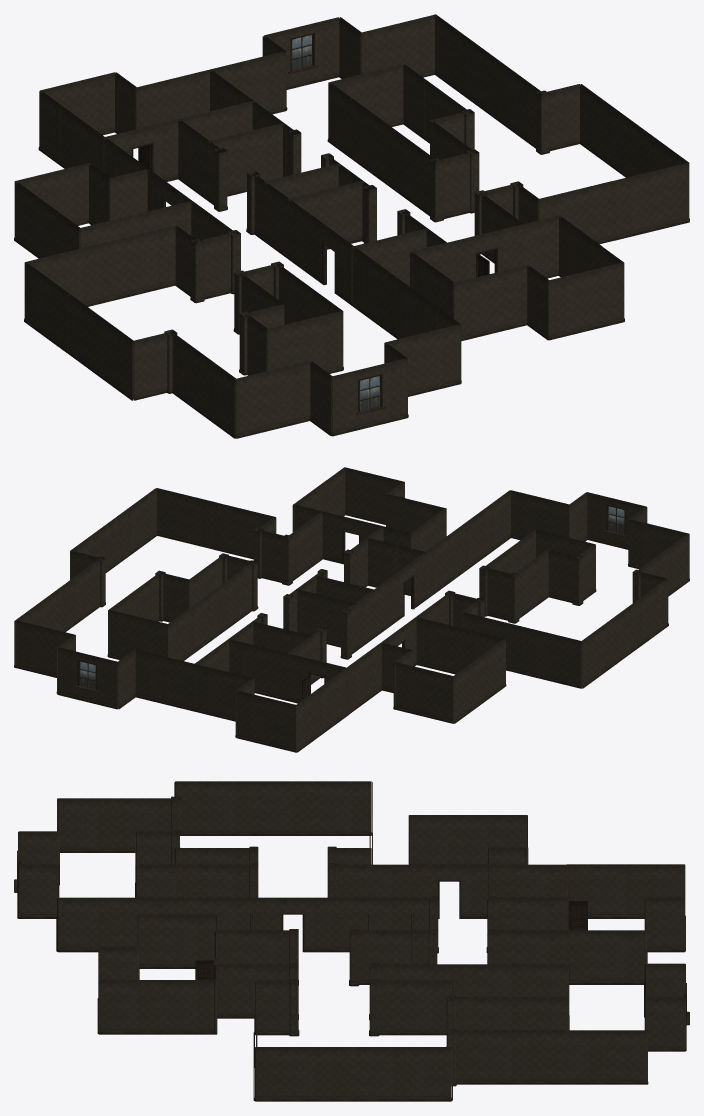
Rendered from map1_mvp2.fbx.
3 renders of one model, top to bottom at view 1: azimuth 30°, elevation 25°; view 2: azimuth 150°, elevation 25°; view 3: azimuth 270°, elevation 25°, orthographic. The views are drawn at different scales.
Visible parts, largest first — view 1: wall_2_1.060, wall_2_1.037, wall_2_1.063, wall_1_1_half.049, wall_1_1_half.056, wall_2_1.080, wall_1_1_half.044, wall_1_1_half.054, wall_2_1.042, window_2_1_single.002, wall_2_1.044, wall_2_1.039 (+52 smaller); view 2: wall_2_1.080, wall_2_1.060, wall_2_1.037, wall_2_1.063, wall_2_1.075, wall_1_1_half.044, wall_1_1_half.049, wall_1_1_half.054, wall_1_1_half.066, wall_1_1_half.056, window_2_1_single.003, wall_2_1.083 (+49 smaller); view 3: wall_1_1_half.054, wall_2_1.063, wall_1_1_half.056, wall_2_1.075, wall_1_1_half.044, wall_2_1.041, wall_2_1.035, wall_1_1_half.034, wall_1_1_half.049, wall_2_1.081, wall_2_1.040, wall_2_1.068 (+27 smaller).
Boxes of the visible parts, bbox=[...] form: wall_2_1.060: bbox=[538, 162, 689, 244]; wall_2_1.037: bbox=[24, 225, 175, 306]; wall_2_1.063: bbox=[24, 262, 134, 400]; wall_1_1_half.049: bbox=[327, 82, 438, 216]; wall_1_1_half.056: bbox=[433, 14, 543, 148]; wall_2_1.080: bbox=[135, 51, 286, 128]; wall_1_1_half.044: bbox=[350, 245, 461, 382]; wall_1_1_half.054: bbox=[580, 84, 689, 221]; wall_2_1.042: bbox=[548, 262, 624, 340]; window_2_1_single.002: bbox=[331, 358, 408, 436]; wall_2_1.044: bbox=[235, 360, 311, 438]; wall_2_1.039: bbox=[453, 265, 529, 341]; wall_2_1.080: bbox=[134, 649, 254, 721]; wall_2_1.060: bbox=[156, 488, 275, 559]; wall_2_1.037: bbox=[462, 612, 582, 688]; wall_2_1.063: bbox=[581, 579, 668, 688]; wall_2_1.075: bbox=[295, 642, 382, 752]; wall_1_1_half.044: bbox=[424, 490, 510, 599]; wall_1_1_half.049: bbox=[167, 562, 254, 660]; wall_1_1_half.054: bbox=[70, 488, 157, 579]; wall_1_1_half.066: bbox=[415, 617, 505, 674]; wall_1_1_half.056: bbox=[14, 558, 101, 667]; window_2_1_single.003: bbox=[57, 647, 118, 709]; wall_2_1.083: bbox=[236, 690, 296, 752]; wall_1_1_half.054: bbox=[254, 1047, 451, 1101]; wall_2_1.063: bbox=[175, 781, 371, 835]; wall_1_1_half.056: bbox=[450, 1030, 648, 1084]; wall_2_1.075: bbox=[488, 864, 684, 918]; wall_1_1_half.044: bbox=[57, 897, 254, 952]; wall_2_1.041: bbox=[98, 980, 217, 1034]; wall_2_1.035: bbox=[57, 798, 176, 852]; wall_1_1_half.034: bbox=[409, 815, 527, 864]; wall_1_1_half.049: bbox=[372, 964, 568, 997]; wall_2_1.081: bbox=[567, 930, 646, 984]; wall_2_1.040: bbox=[137, 914, 216, 968]; wall_2_1.068: bbox=[372, 980, 451, 1035].
Size of the model in its own units: 3224 by 300 by 3449.
